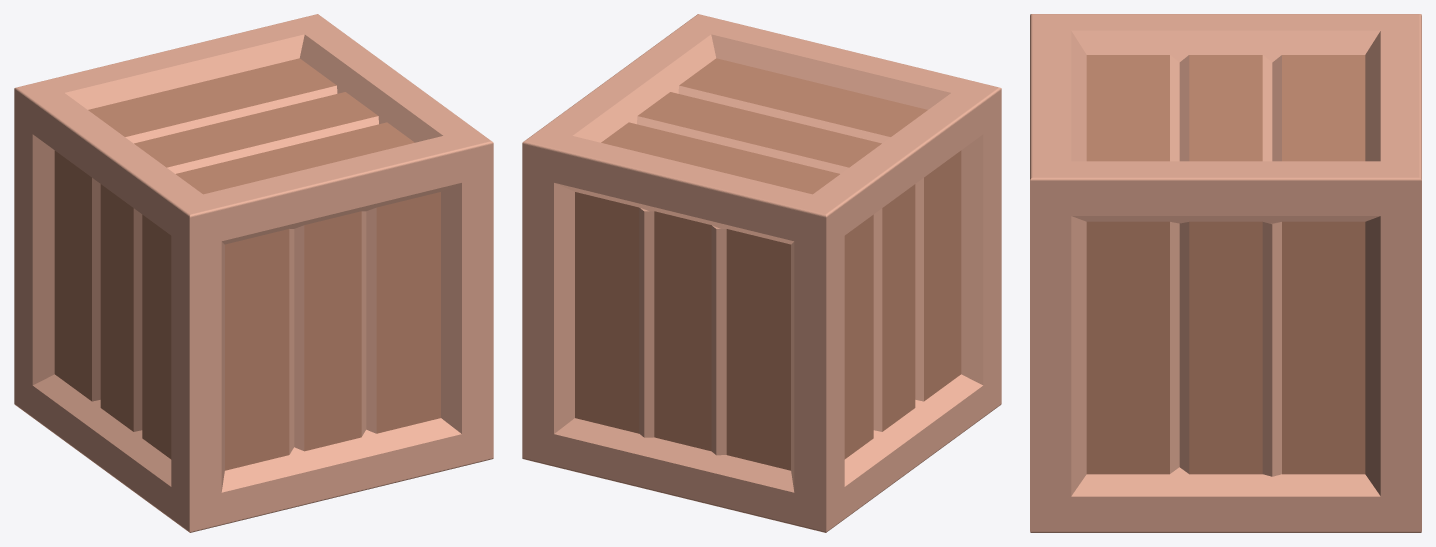
Rendered from crate.glb.
3 renders of one model, left to right at view 1: azimuth 30°, elevation 25°; view 2: azimuth 150°, elevation 25°; view 3: azimuth 270°, elevation 25°, orthographic. The views are drawn at different scales.
Visible parts, largest first — view 1: Cube.003, Cube.004; view 2: Cube.003, Cube.004; view 3: Cube.003, Cube.004.
Part boxes in pixels (x1,y1,x2,y2): Cube.003: (14, 14, 493, 532); Cube.004: (54, 58, 440, 470); Cube.003: (522, 14, 1001, 532); Cube.004: (575, 58, 961, 470); Cube.003: (1030, 14, 1421, 532); Cube.004: (1086, 55, 1365, 474).
Bounding box in the file's own units: 2.39 × 2.39 × 2.39.
